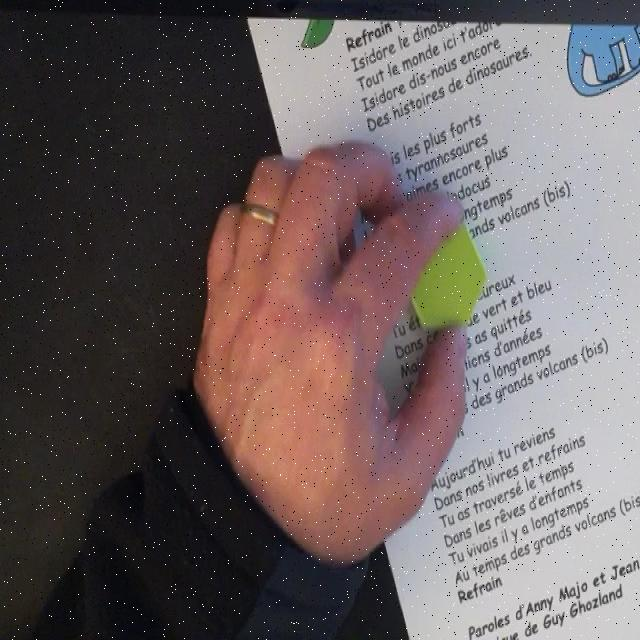hexagon: (401, 222, 486, 331)
